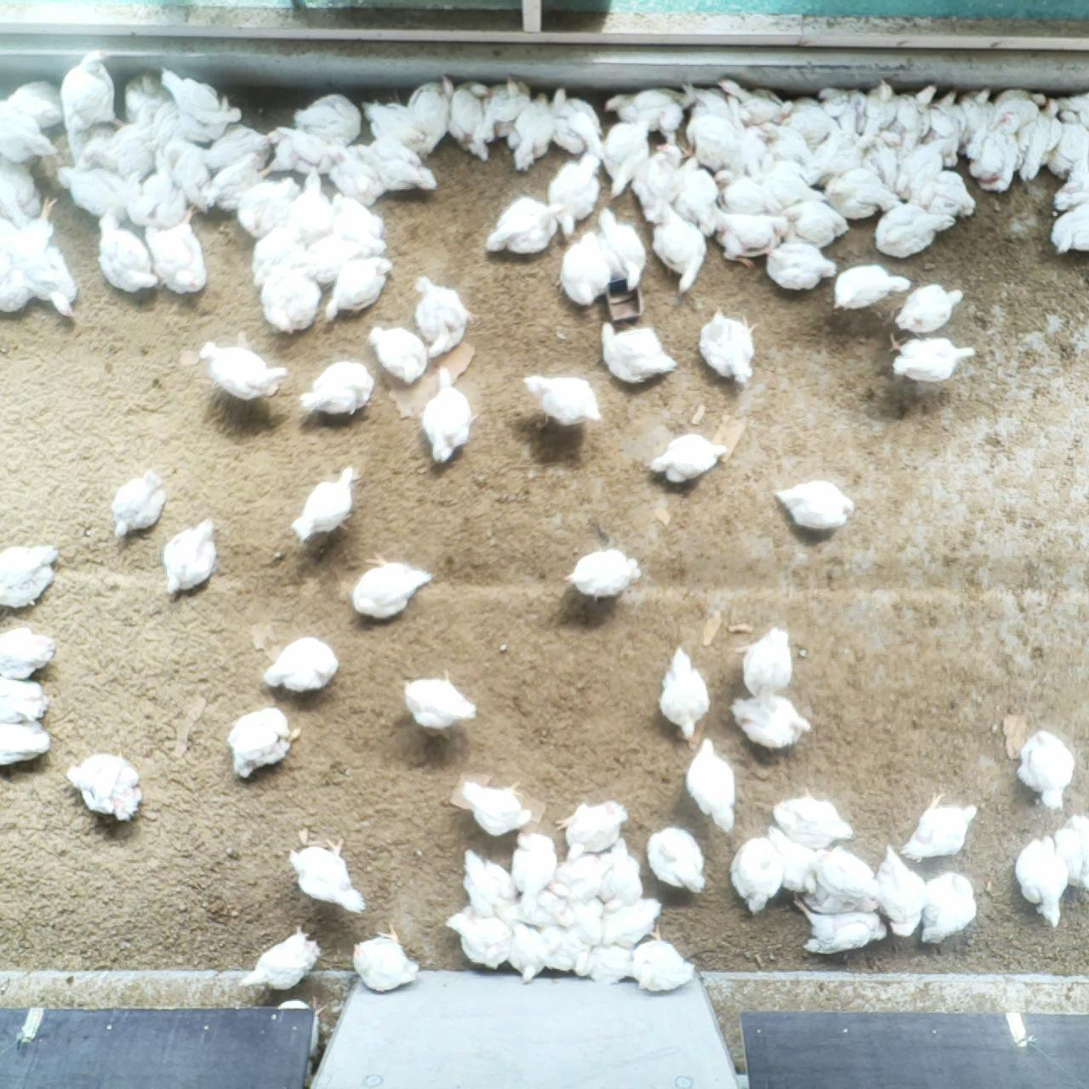chicken: (14, 198, 79, 321), (789, 891, 891, 958), (410, 272, 483, 361), (289, 835, 366, 917), (899, 789, 984, 861), (424, 365, 482, 470), (223, 706, 303, 781), (349, 552, 436, 620), (163, 71, 242, 145), (199, 339, 291, 402), (238, 923, 323, 991), (60, 52, 128, 136), (144, 202, 205, 295), (798, 844, 880, 913), (680, 82, 743, 171), (650, 199, 709, 294), (66, 751, 145, 821), (1012, 835, 1070, 930), (683, 735, 738, 835), (623, 923, 702, 992), (596, 319, 677, 386), (484, 194, 564, 261), (728, 691, 814, 753), (291, 465, 361, 541), (874, 845, 929, 941), (349, 138, 442, 194), (602, 82, 683, 146), (81, 116, 159, 182), (659, 644, 713, 739), (321, 254, 396, 322), (403, 664, 478, 732), (123, 150, 188, 228), (591, 204, 647, 294), (351, 923, 421, 995), (548, 148, 604, 237), (772, 785, 852, 847), (887, 330, 977, 385), (708, 209, 789, 270), (699, 306, 761, 385), (918, 868, 980, 947), (821, 165, 905, 223), (967, 109, 1024, 194), (259, 262, 324, 336), (160, 516, 219, 597), (94, 217, 156, 294), (630, 137, 684, 225), (235, 172, 301, 244), (1015, 730, 1075, 809), (773, 477, 858, 532), (522, 371, 605, 427), (880, 281, 966, 335), (874, 200, 955, 257), (261, 634, 338, 693), (896, 135, 958, 208), (559, 798, 627, 864), (644, 825, 708, 895), (255, 126, 344, 176), (445, 79, 497, 163), (368, 323, 434, 389), (555, 227, 610, 306), (152, 137, 212, 209), (667, 155, 722, 233), (106, 468, 168, 537), (299, 361, 378, 415), (649, 433, 731, 485), (506, 90, 558, 172), (456, 775, 528, 834), (1013, 92, 1060, 182), (249, 225, 315, 289), (566, 546, 645, 599), (763, 235, 837, 291), (506, 831, 557, 912), (831, 263, 915, 312), (326, 193, 390, 256), (202, 149, 264, 214), (604, 116, 653, 198), (409, 74, 458, 156), (0, 96, 59, 164), (762, 827, 821, 894), (0, 542, 58, 610), (742, 158, 824, 206), (743, 625, 795, 698), (449, 907, 510, 969), (327, 144, 387, 207), (0, 623, 64, 682), (52, 166, 126, 217), (547, 89, 603, 156), (734, 838, 784, 913), (294, 91, 364, 144), (883, 81, 939, 147), (811, 129, 877, 185), (599, 894, 665, 950), (483, 71, 533, 143), (909, 168, 979, 219), (722, 77, 793, 127), (302, 230, 371, 281), (920, 86, 962, 169), (288, 165, 336, 237), (203, 124, 275, 172), (815, 85, 868, 150), (528, 922, 590, 977), (360, 99, 428, 149), (460, 849, 513, 913), (708, 168, 780, 215), (1048, 811, 1089, 892), (1, 79, 65, 130), (551, 851, 615, 902), (1043, 109, 1089, 178), (118, 74, 176, 128), (779, 200, 847, 246), (954, 83, 994, 160), (783, 94, 837, 151), (0, 160, 45, 228), (0, 225, 34, 312), (687, 84, 756, 126), (277, 994, 326, 1053), (986, 86, 1047, 133), (501, 915, 544, 981), (574, 943, 637, 987), (495, 896, 567, 934), (0, 718, 54, 766), (863, 126, 904, 187), (759, 121, 815, 164), (597, 855, 645, 905), (557, 898, 609, 944), (0, 678, 50, 724), (1048, 201, 1089, 256), (1052, 155, 1089, 214), (861, 79, 897, 138), (758, 153, 815, 187), (1053, 89, 1089, 131)
